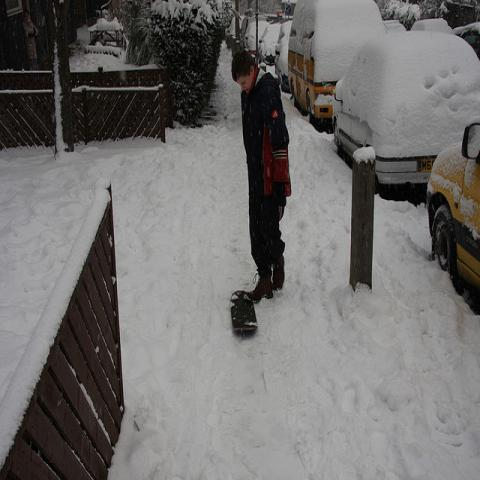car: (335, 28, 476, 188), (426, 118, 480, 296), (274, 18, 293, 94), (260, 22, 280, 64)
truck: (291, 1, 388, 129)
